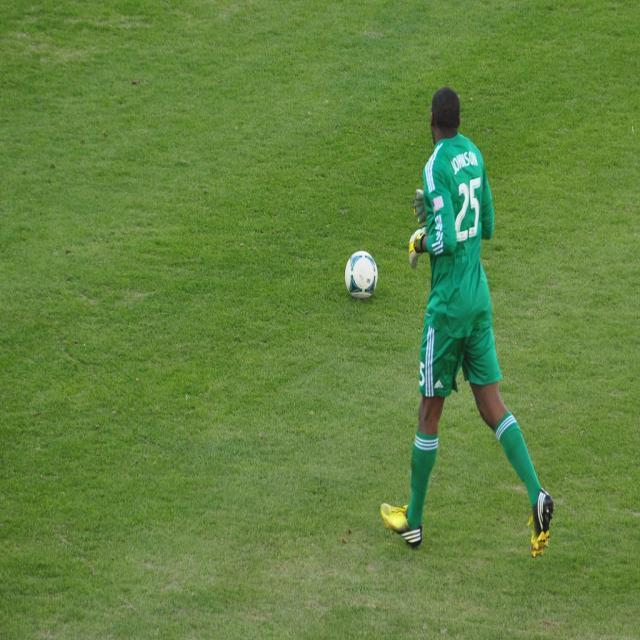football: (327, 242, 385, 315)
